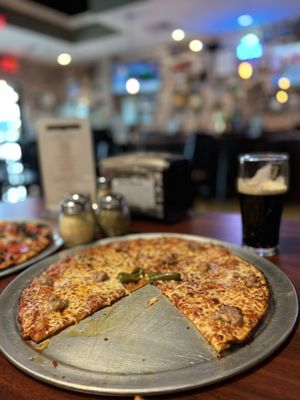pizza: (236, 152, 290, 255)
